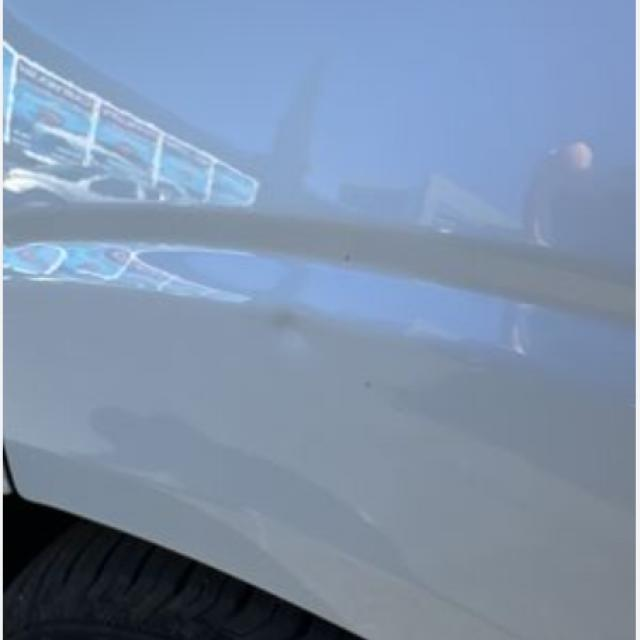dents: (256, 280, 329, 377)
